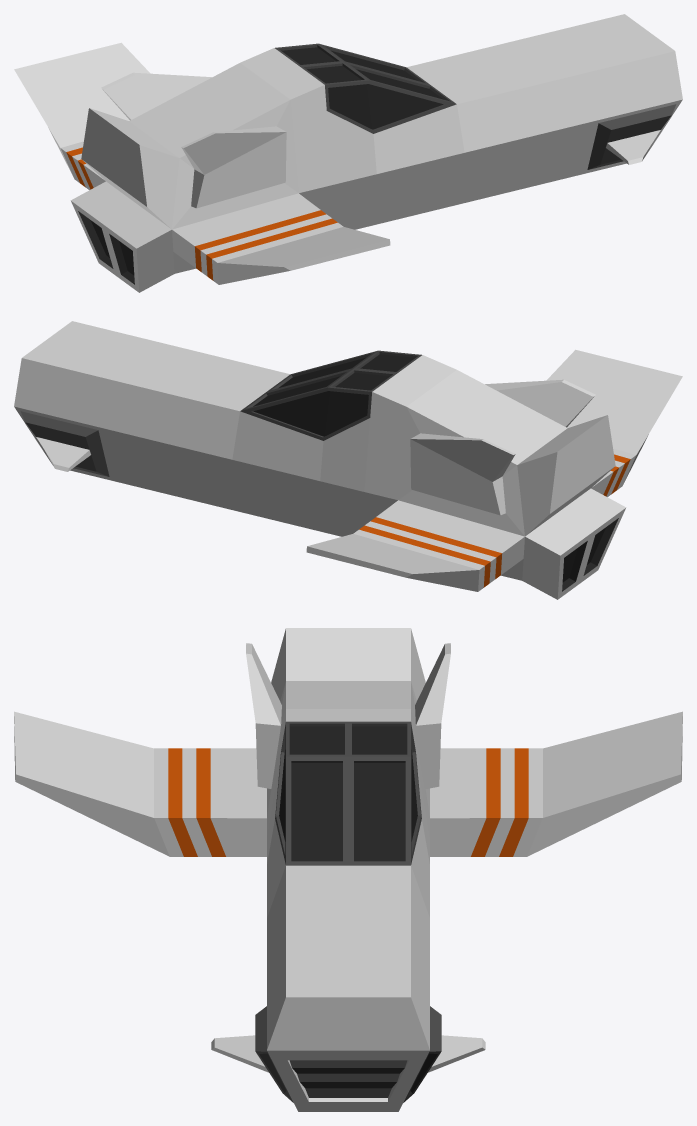
Rendered from PlaneFirst.fbx.
3 views of the same model, one above another, from view 1: azimuth 30°, elevation 25°; view 2: azimuth 150°, elevation 25°; view 3: azimuth 270°, elevation 25° (orthographic). The views are drawn at different scales.
Visible parts, largest first — view 1: Grey; view 2: Grey; view 3: Grey.
Part boxes in pixels (x1=…): Grey: x1=14, y1=14, x2=682, y2=292; Grey: x1=14, y1=321, x2=682, y2=599; Grey: x1=14, y1=628, x2=682, y2=1111.
Size of the model in its own units: 1249 by 366 by 1069.
